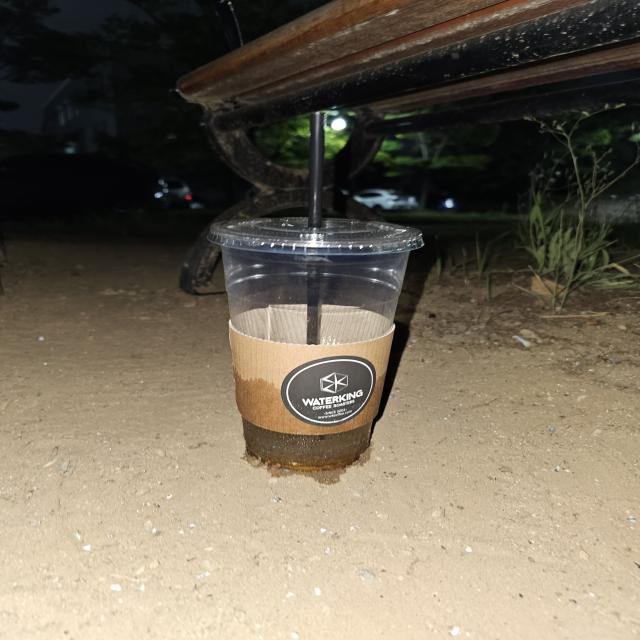cup: (197, 202, 430, 473)
